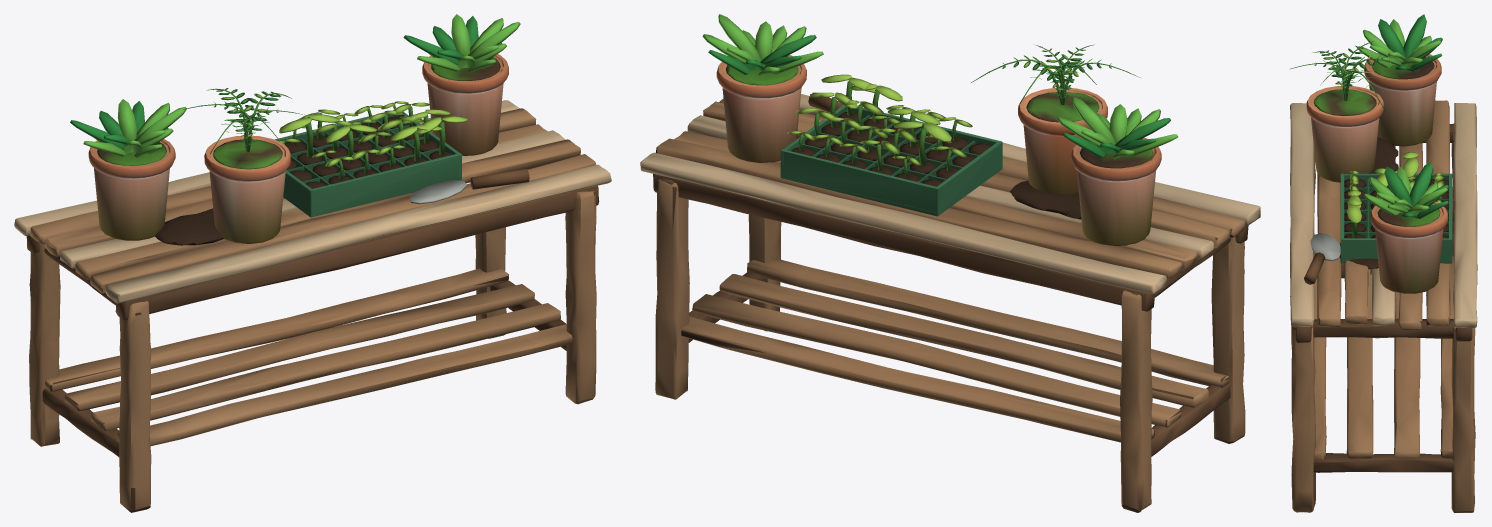
File: canopy_slat_bench.glb
The picture shows the model from 3 angles, left to right: view 1: azimuth 30°, elevation 25°; view 2: azimuth 150°, elevation 25°; view 3: azimuth 270°, elevation 25°; orthographic projection. The views are drawn at different scales.
Parts seen in each view (by area): view 1: canopy_slat_bench; view 2: canopy_slat_bench; view 3: canopy_slat_bench.
Boxes of the visible parts, x1=… form: canopy_slat_bench: x1=14, y1=14, x2=611, y2=512; canopy_slat_bench: x1=640, y1=14, x2=1260, y2=512; canopy_slat_bench: x1=1289, y1=14, x2=1477, y2=512.
Bounding box in the file's own units: 16.04 × 10.95 × 5.88.
